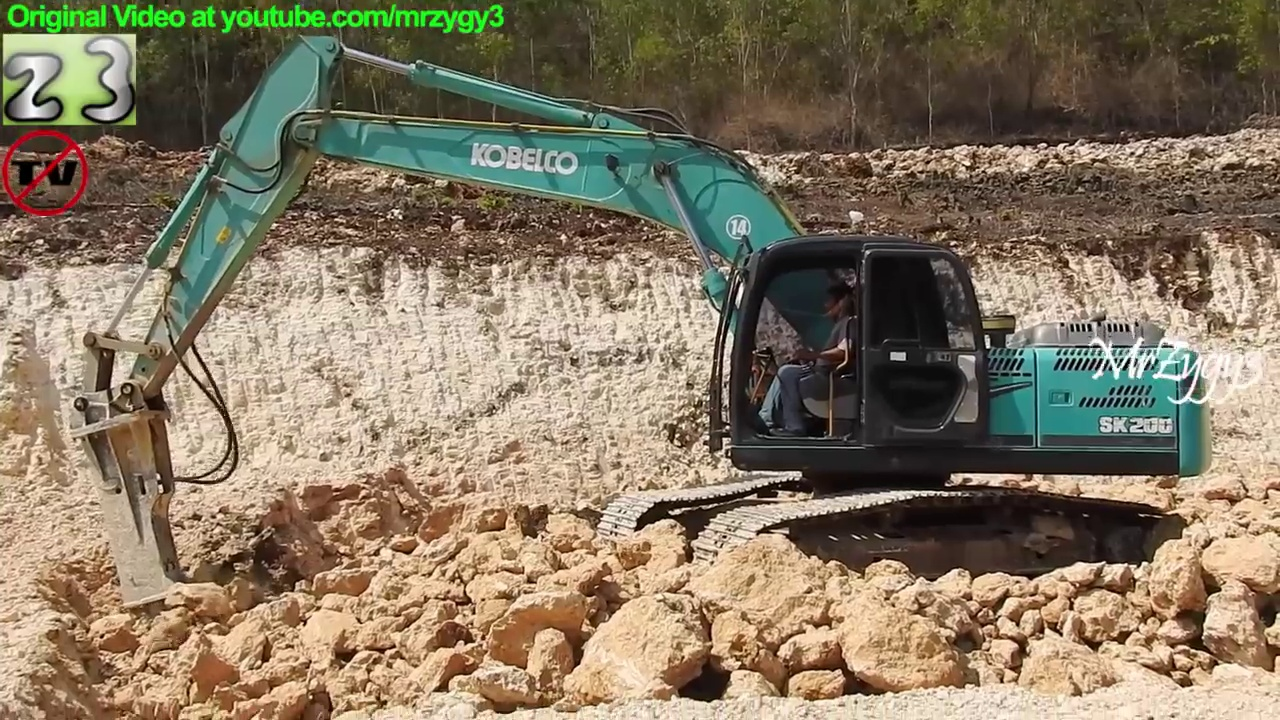excavator breaker: (67, 34, 1215, 617)
